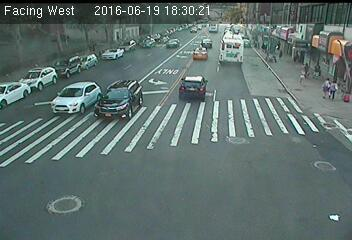neg: (168, 64, 189, 93), (113, 105, 134, 132), (194, 50, 210, 71), (212, 51, 228, 71), (194, 36, 208, 54), (155, 27, 168, 44), (231, 24, 242, 39)
pos: (316, 76, 336, 102), (325, 80, 344, 104), (295, 63, 313, 88)
